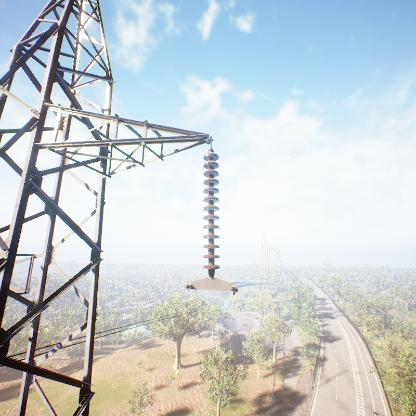insulator: (200, 149, 219, 274)
